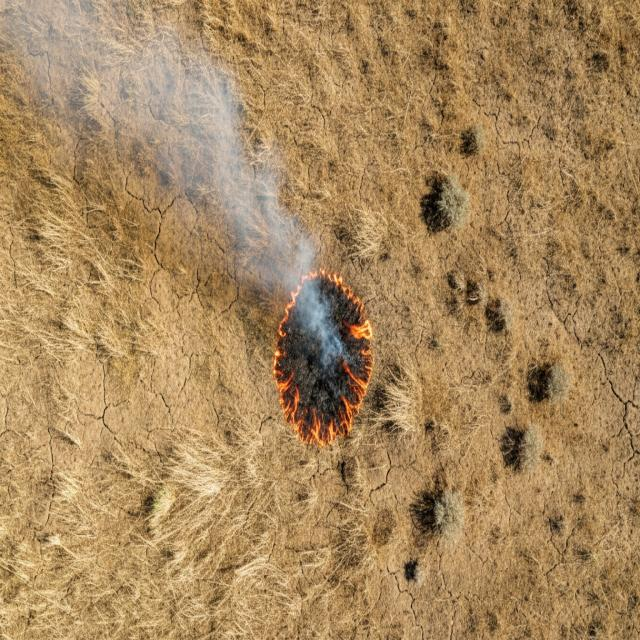wildfire: (260, 224, 376, 453)
